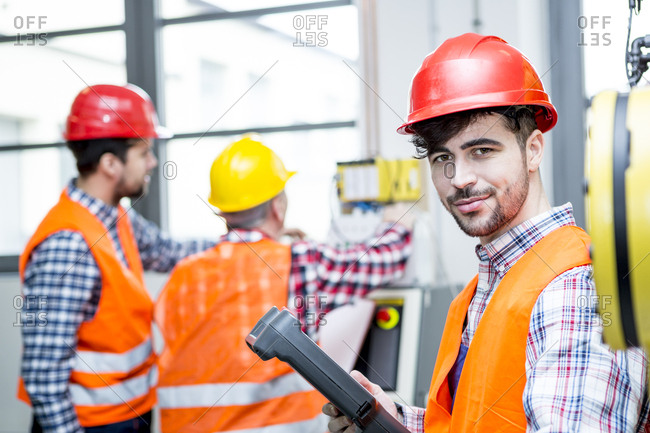Person_wearing_helmet: (388, 22, 569, 191), (72, 66, 176, 177)
